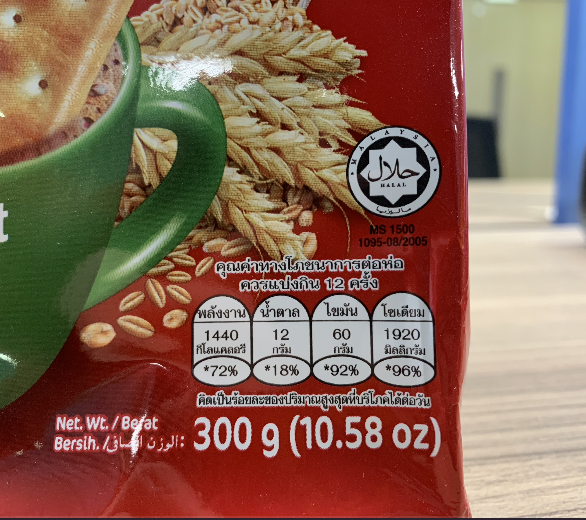halal: (363, 141, 424, 199)
